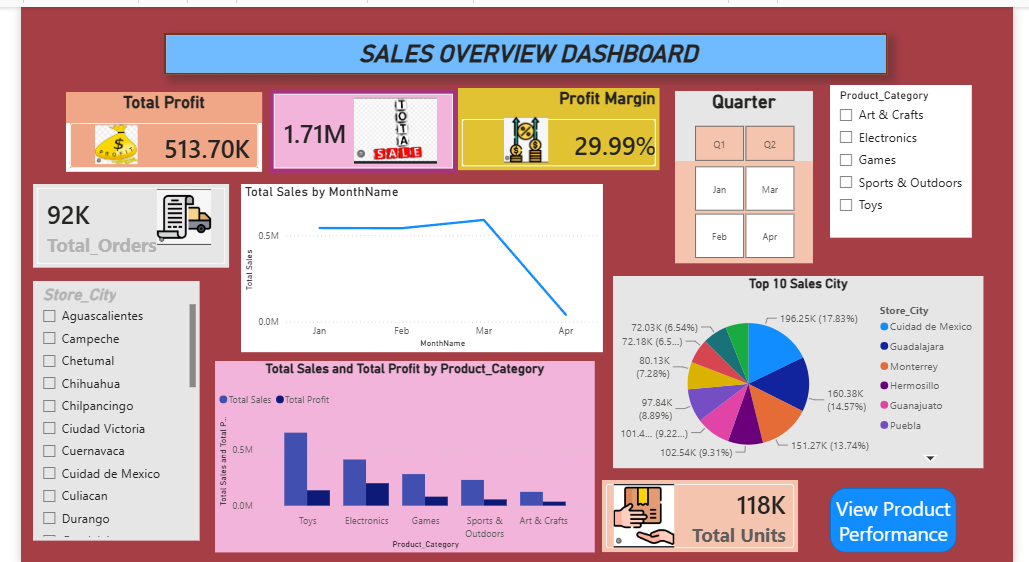

The dashboard page shown, as its layout file describes it:
{"tool":"powerbi","page":{"name":"Page 1","canvas":[1280,720],"ordinal":0},"visuals":[{"type":"cardVisual","fields":{"Data":["A Measures.Total Units"]},"box":[750,610,253.3,93.3],"z":0},{"type":"textbox","title":"SALES OVERVIEW DASHBOARD","box":[184.8,33.6,934,53.8],"z":1000},{"type":"cardVisual","title":"Total Profit","fields":{"Data":["A Measures.Total Profit"]},"box":[58.3,110,253.3,103.3],"z":2000},{"type":"cardVisual","title":"Profit Margin","fields":{"Data":["A Measures.Profit Margin"]},"box":[563.3,105,260,106],"z":3000},{"type":"cardVisual","fields":{"Data":["A Measures.Total Sales"]},"box":[321.7,106.7,241.7,106.7],"z":4000},{"type":"slicer","title":"Quarter","fields":{"Values":["Date Table.Quartername"]},"box":[843.3,108.3,178.1,97.4],"z":5000},{"type":"slicer","fields":{"Values":["Date Table.MonthName"]},"box":[843.3,198.3,178,132],"z":6000},{"type":"slicer","fields":{"Values":["maven_toys stores.Store_City"]},"box":[15,353.3,215,335],"z":7000},{"type":"slicer","fields":{"Values":["maven_toys products.Product_Category"]},"box":[1043.3,100,183.3,196.7],"z":8000},{"type":"cardVisual","fields":{"Data":["A Measures.Total_Orders"]},"box":[15,228.3,253.3,108.3],"z":9000},{"type":"lineChart","fields":{"Category":["Date Table.MonthName"],"Y":["A Measures.Total Sales"]},"box":[283.3,228.3,466.7,216.7],"z":10000},{"type":"pieChart","title":"Top 10 Sales City","fields":{"Category":["maven_toys stores.Store_City"],"Y":["A Measures.Total Sales"]},"box":[763.3,346.7,478.3,248.3],"z":11000},{"type":"clusteredColumnChart","fields":{"Y":["A Measures.Total Sales","A Measures.Total Profit"],"Category":["maven_toys products.Product_Category"]},"box":[250,456.7,490,246.7],"z":12000},{"type":"shape","box":[1043.3,620,163.3,83.3],"z":13000},{"type":"image","box":[95,150,55,55],"z":14000},{"type":"image","box":[623.3,136.7,56.7,68.3],"z":15000},{"type":"image","box":[430,106.7,106.7,105],"z":16000},{"type":"image","box":[763.3,615,80,81.7],"z":17000},{"type":"image","box":[170,235,80,71.7],"z":18000}]}

Visuals, with their boxes in screenshot pixels (x1, y1, x2, y2), scaled from the page's 1280x720 canvas onto the 1029x562 screenshot:
cardVisual - A Measures.Total Units: region(603, 476, 807, 549)
"SALES OVERVIEW DASHBOARD" textbox: region(149, 26, 899, 68)
"Total Profit" cardVisual: region(47, 86, 250, 166)
"Profit Margin" cardVisual: region(453, 82, 662, 165)
cardVisual - A Measures.Total Sales: region(259, 83, 453, 167)
"Quarter" slicer: region(678, 85, 821, 161)
slicer - Date Table.MonthName: region(678, 155, 821, 258)
slicer - maven_toys stores.Store_City: region(12, 276, 185, 537)
slicer - maven_toys products.Product_Category: region(839, 78, 986, 232)
cardVisual - A Measures.Total_Orders: region(12, 178, 216, 263)
lineChart - Date Table.MonthName x A Measures.Total Sales: region(228, 178, 603, 347)
"Top 10 Sales City" pieChart: region(614, 271, 998, 464)
clusteredColumnChart - A Measures.Total Sales x A Measures.Total Profit: region(201, 356, 595, 549)
shape: region(839, 484, 970, 549)
image: region(76, 117, 121, 160)
image: region(501, 107, 547, 160)
image: region(346, 83, 431, 165)
image: region(614, 480, 678, 544)
image: region(137, 183, 201, 239)
